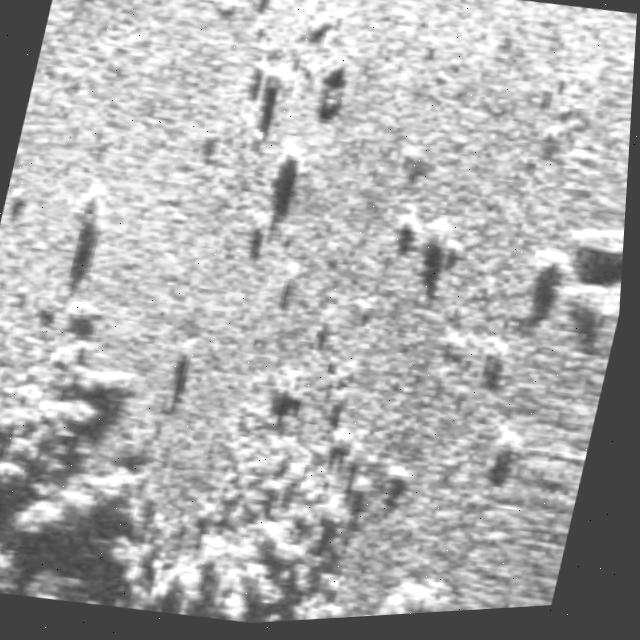bedrock group: (0, 253, 521, 640)
